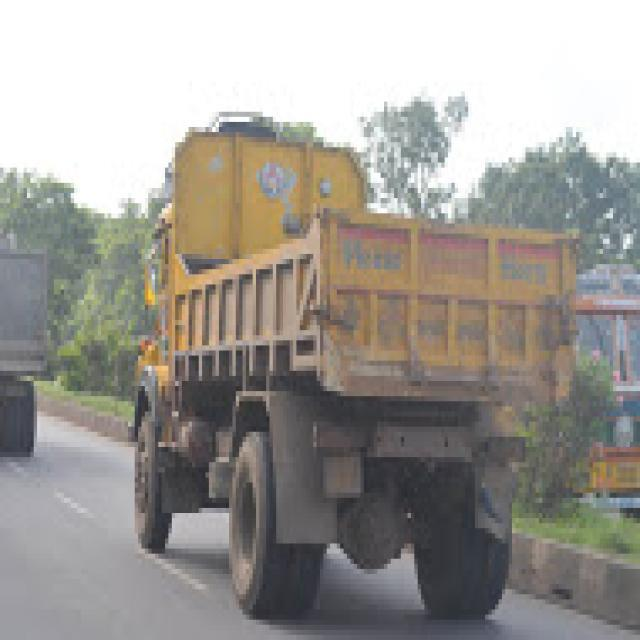truck_back: (126, 99, 581, 632), (0, 239, 54, 457)
truck_front: (576, 252, 640, 518)
